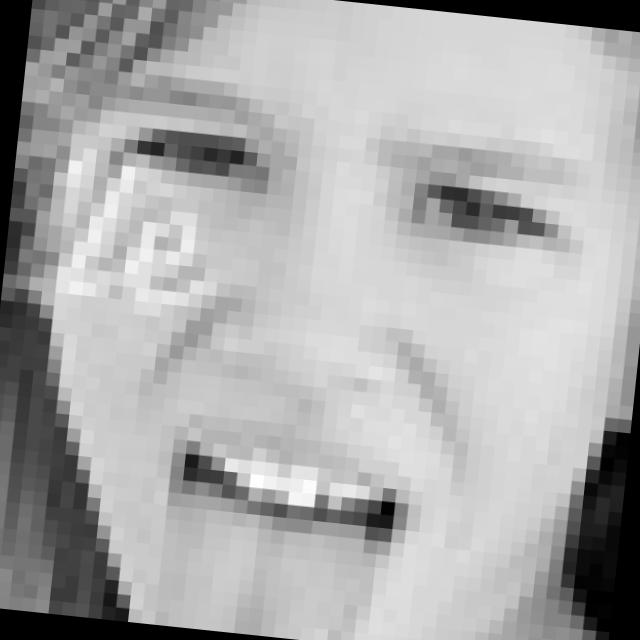disgust: (58, 73, 590, 640)
